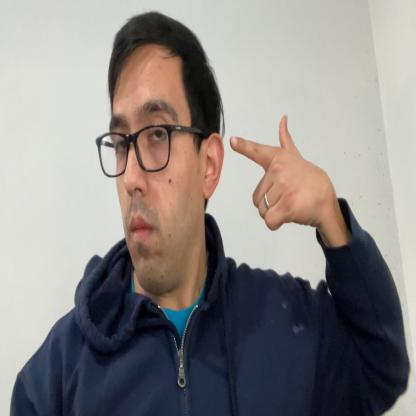G: (230, 114, 323, 230)
